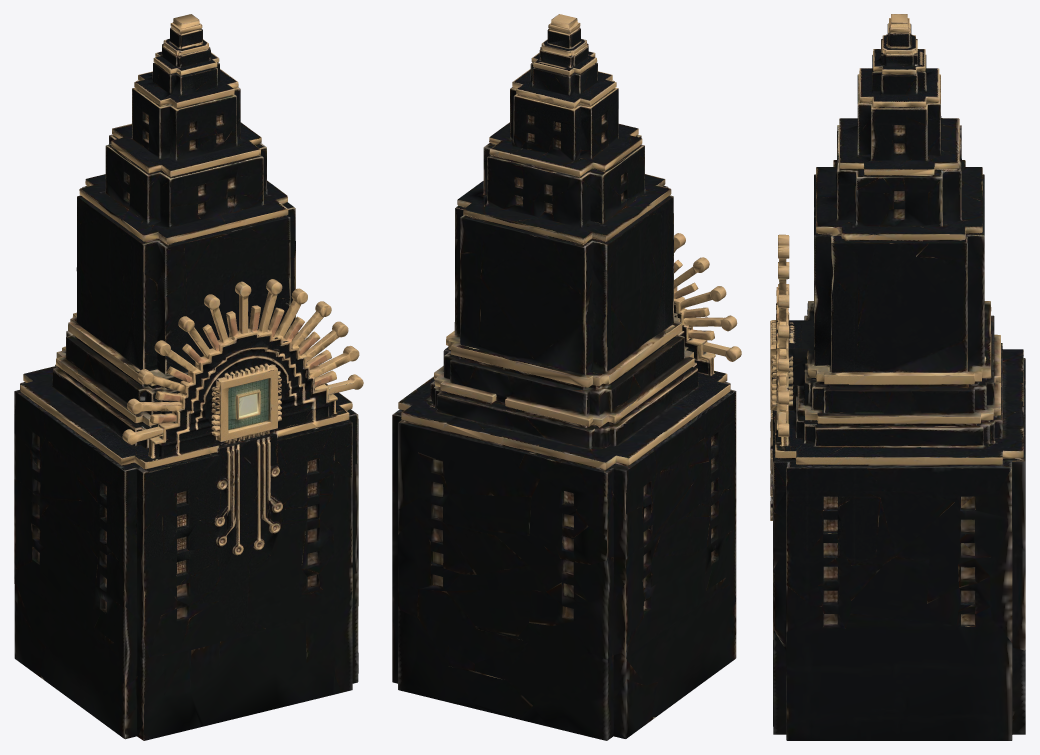
File: sun-tower.glb
3 views of the same model, side by side, from view 1: azimuth 30°, elevation 25°; view 2: azimuth 150°, elevation 25°; view 3: azimuth 270°, elevation 25° (orthographic). The views are drawn at different scales.
Bounding box in the file's own units: 0.7217 × 1.9 × 0.6628.
Materials: 1 (1 with a texture image).
